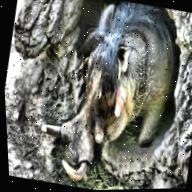boar: (35, 0, 192, 191)
